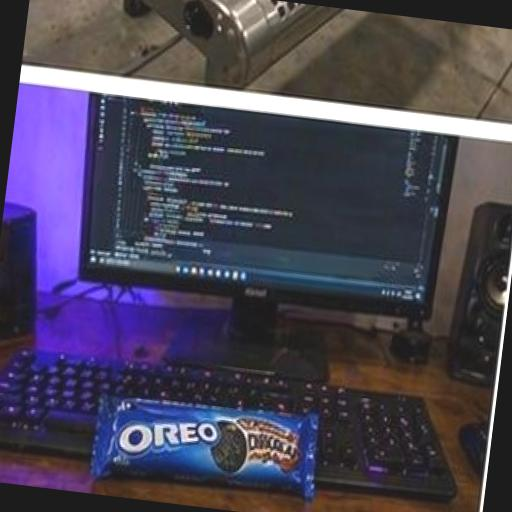oreo: (55, 330, 384, 512)
